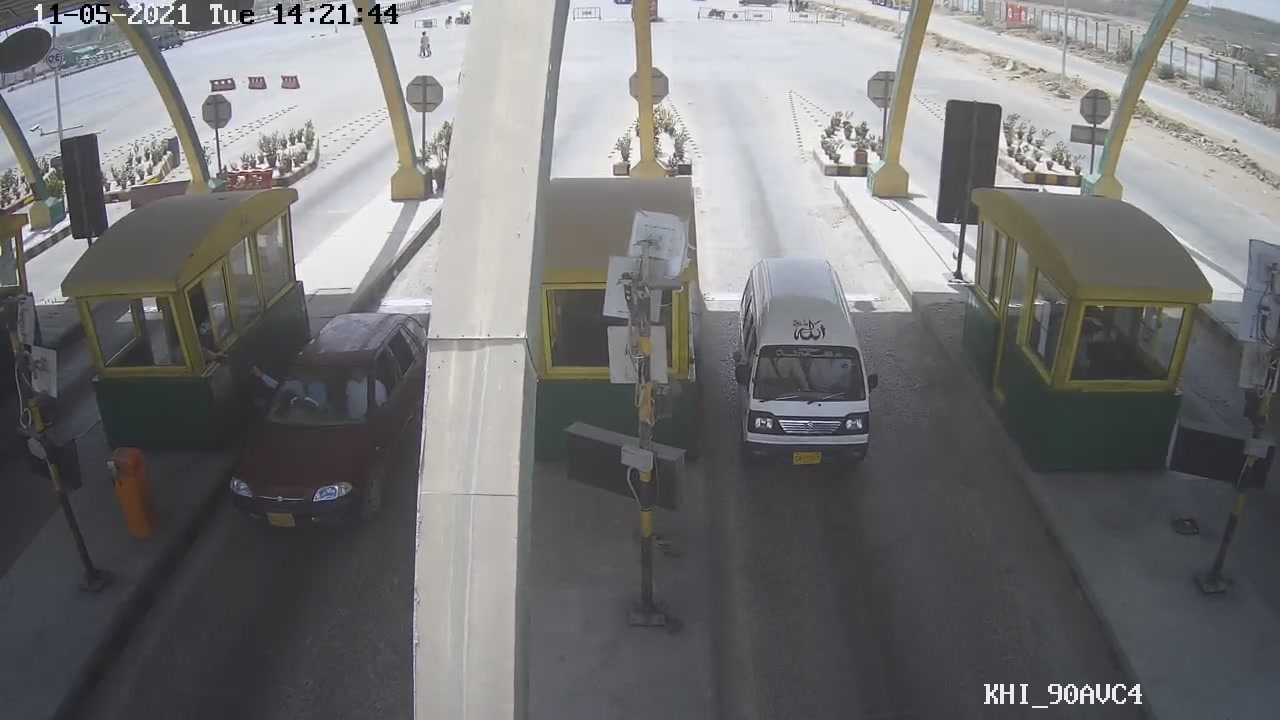F1: (727, 255, 882, 470)
